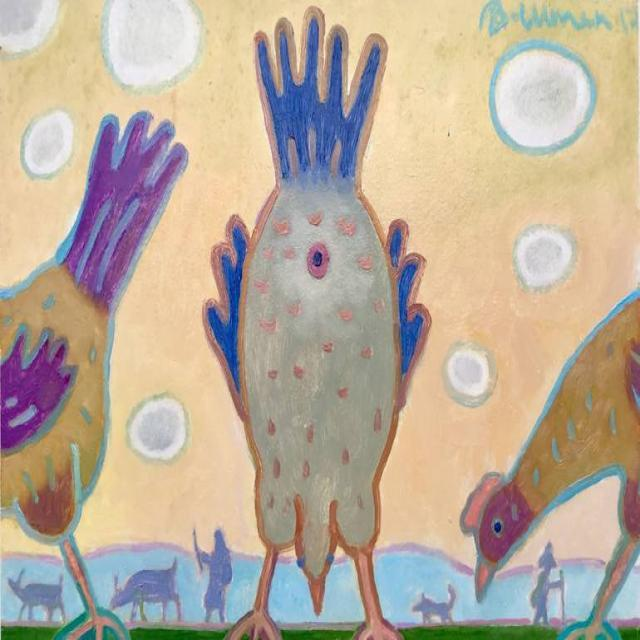hidden camera: (310, 249, 323, 268)
